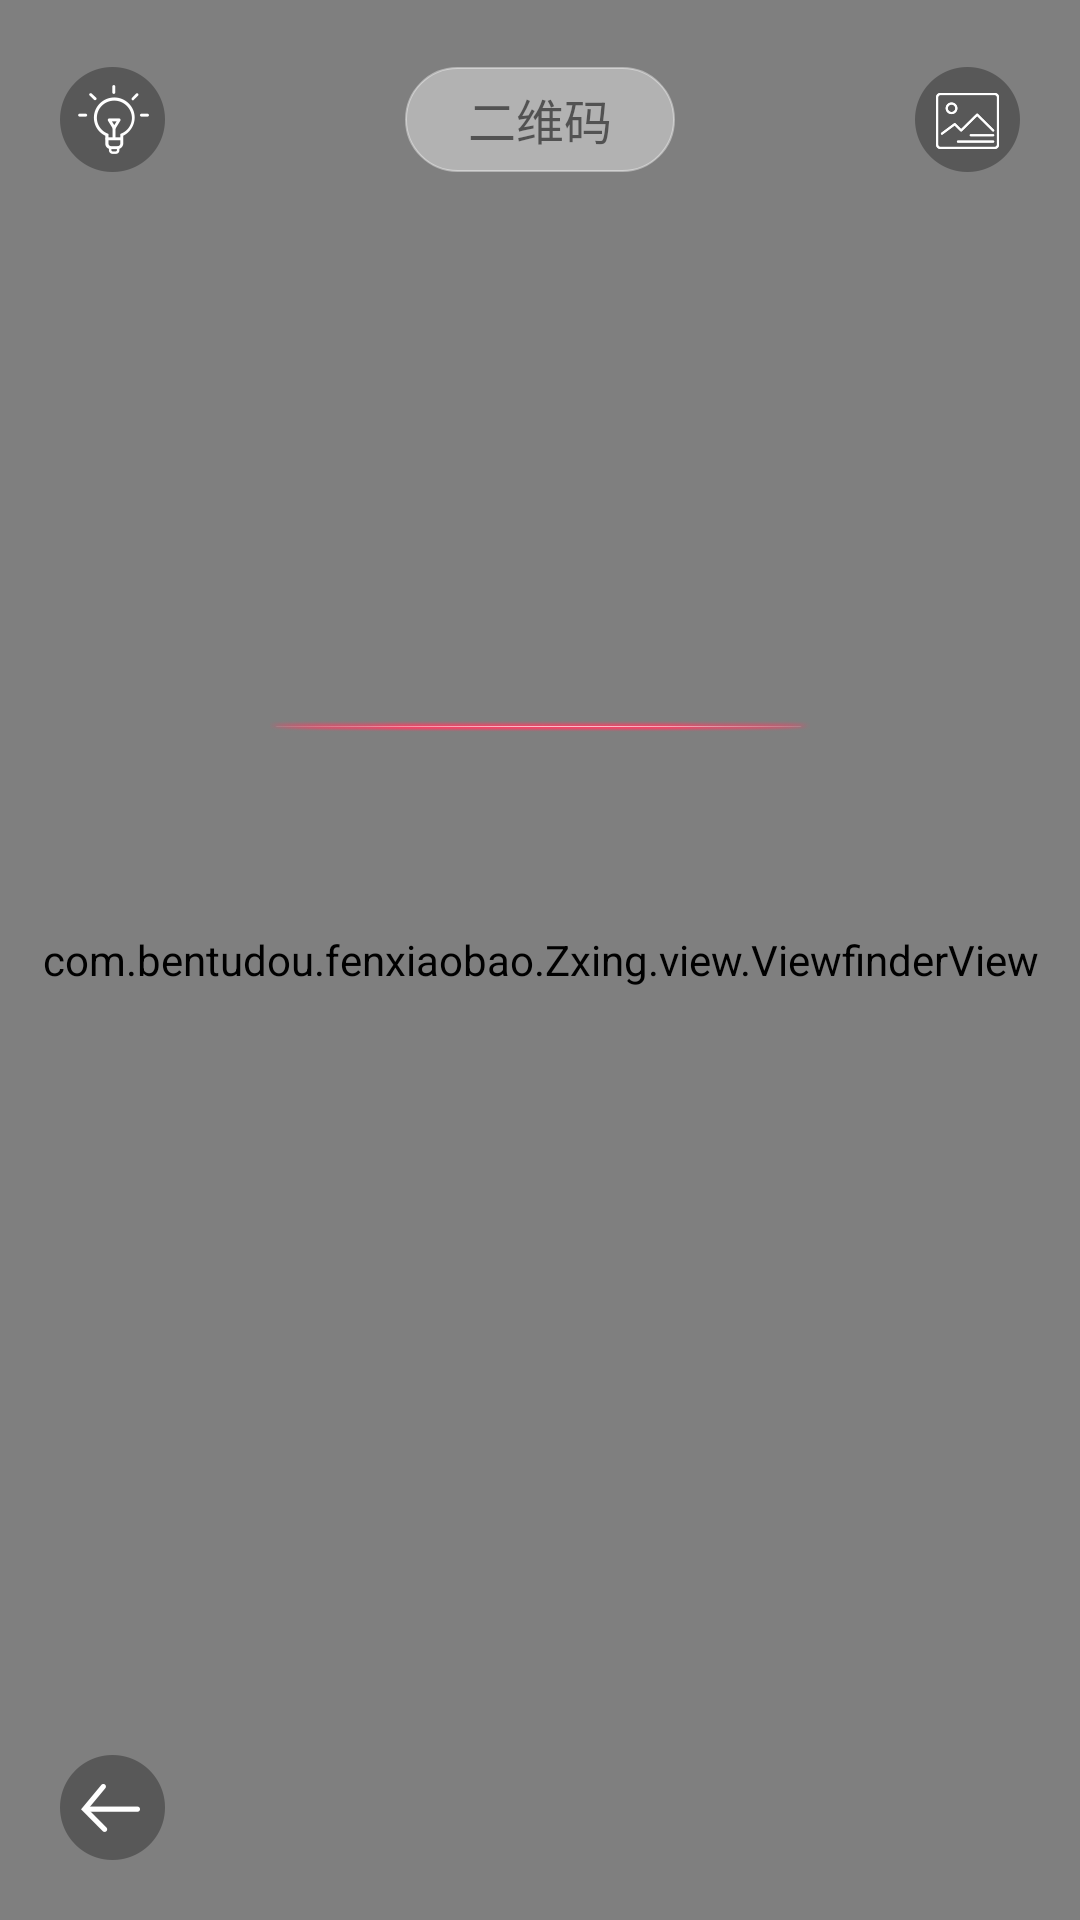

Icons on this 1080*1920 Android screen, each with its box as (x1, y1, x2, y2):
saoyisao dengguang: (60, 67, 165, 172)
saoyisao fanhui: (60, 1755, 165, 1860)
saoyisao xiangce: (915, 67, 1020, 172)
